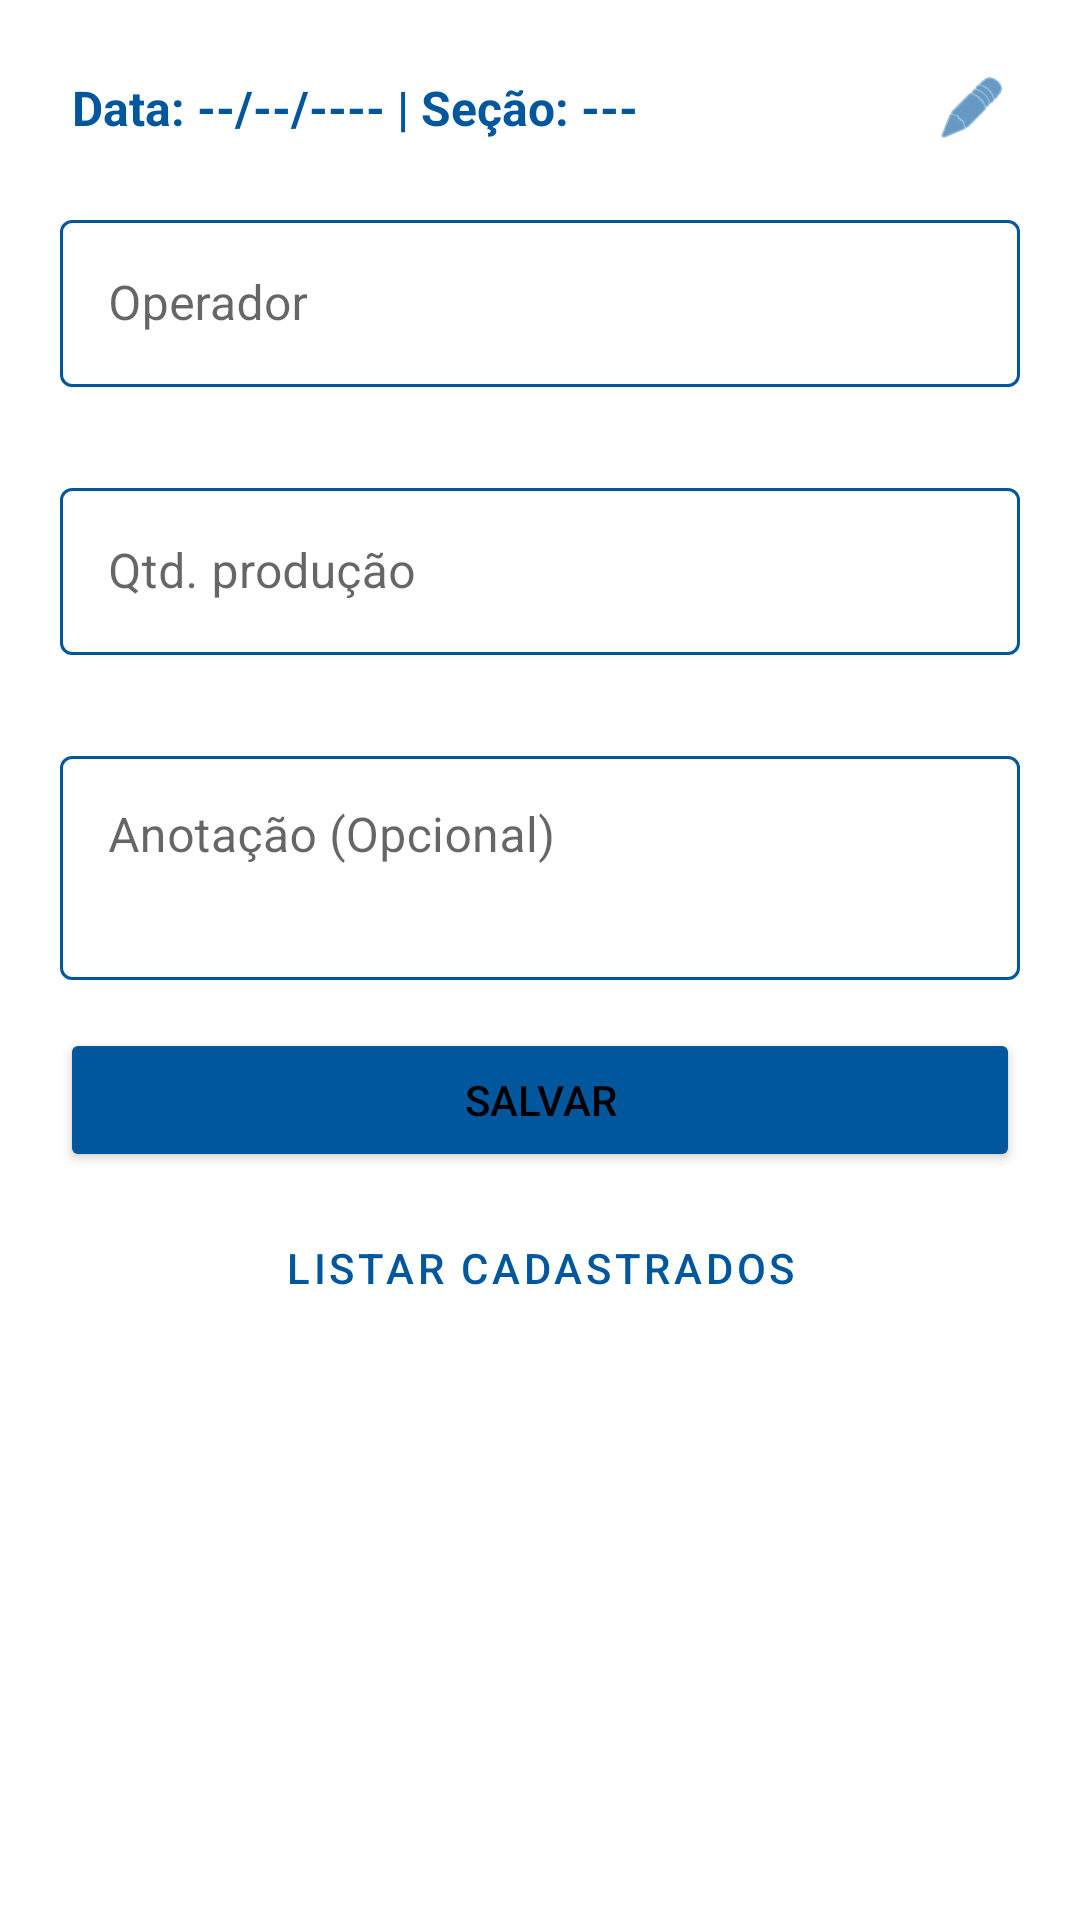

Locate icon controls on the screen. Image size 1080*1920, boxes as (x1, y1, x2, y2).
edit: (941, 77, 1002, 138)
